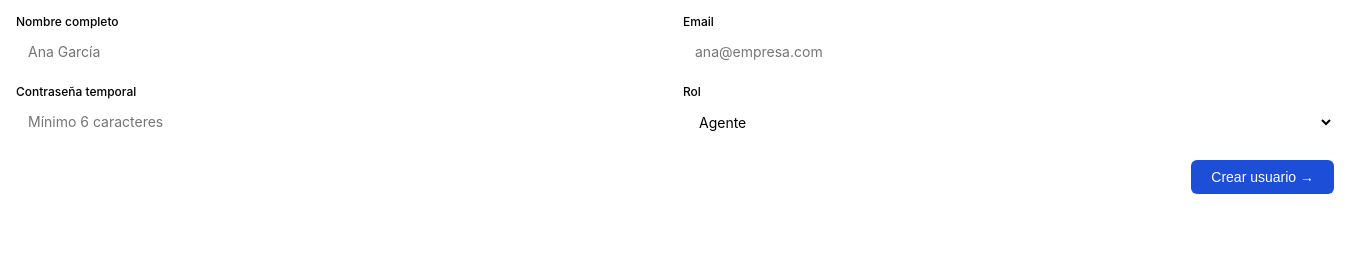
AddUserForm › muestra error específico cuando el email ya está registrado
The width and height of the screenshot is (1351, 266).
Type "Ana" into the field labelled "Nombre completo". click: (342, 52)
box: [16, 35, 667, 68]
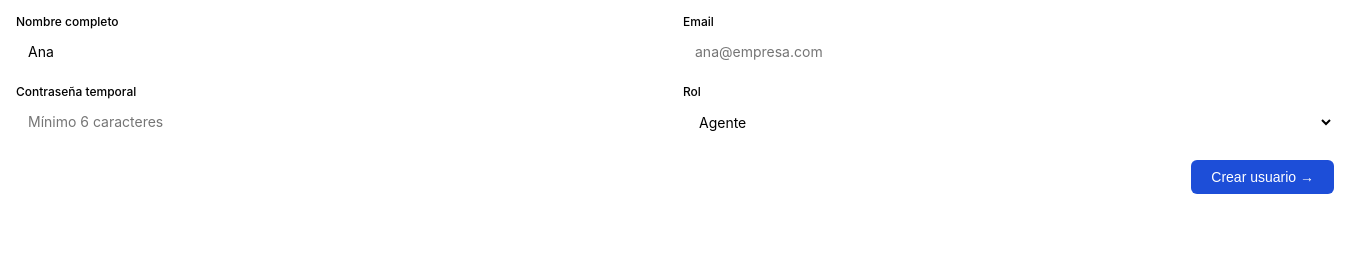
Type "ana@test.com" into the field labelled "Email". click: (1008, 52)
box: [683, 35, 1334, 68]
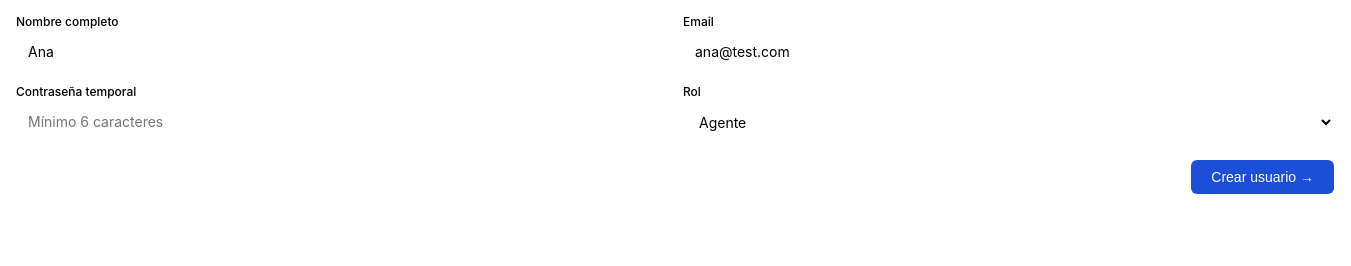
Type "clave123" into the password field labelled "Contraseña temporal". click: (342, 122)
box: [16, 105, 667, 138]
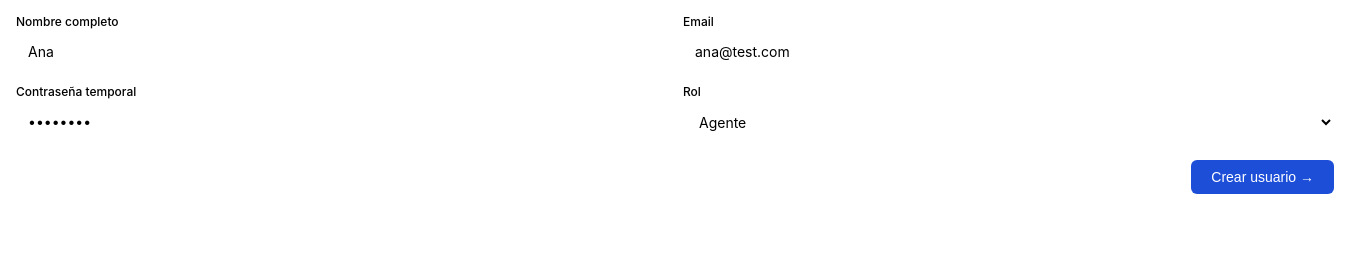
Click the button "Crear usuario →". click: (1263, 177)
box: [1191, 160, 1334, 194]
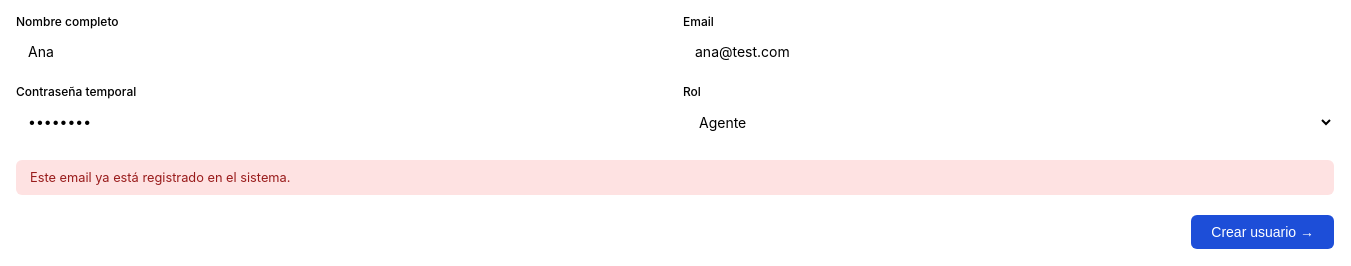
Check: the message shows "Este email ya está registrado", box [30, 170, 290, 185]
